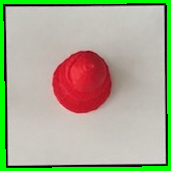Red Bishop: (48, 50, 117, 114)
